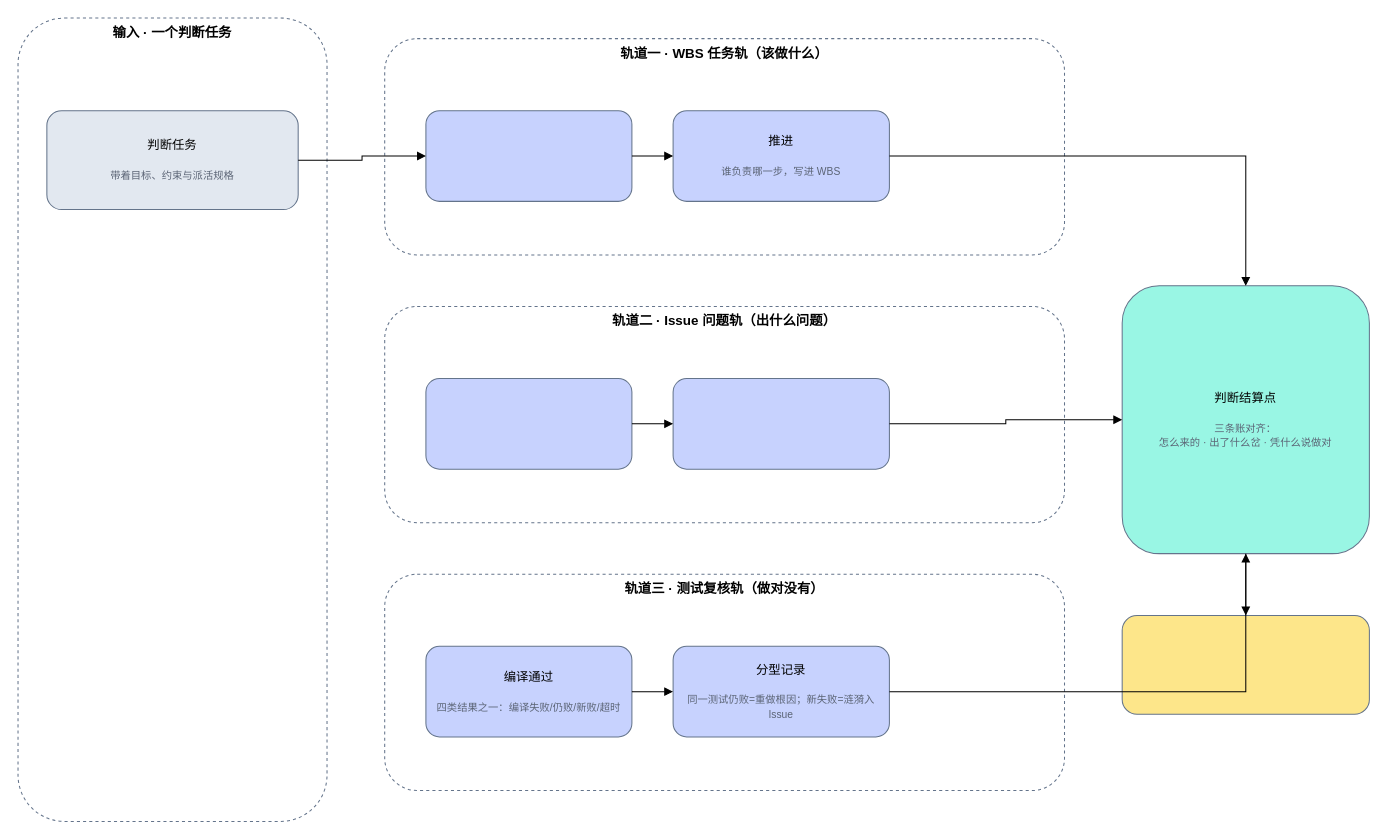
Some shapes in this 1387 by 839 pixel diagram are drawn without their labels. The shapes that lost their labels are listed below. From the top down, each one's centre as x and y in pixels, then its label:
At [528,155]: "拆步骤 标负责人 · 定依赖 · 跟派活走".
At [528,423]: "新故障入轨 当场记录，不靠记忆".
At [780,423]: "带关联 regressionOf 链回前序问题".
At [1245,664]: "可管理的判断 任何一步都能复核".
